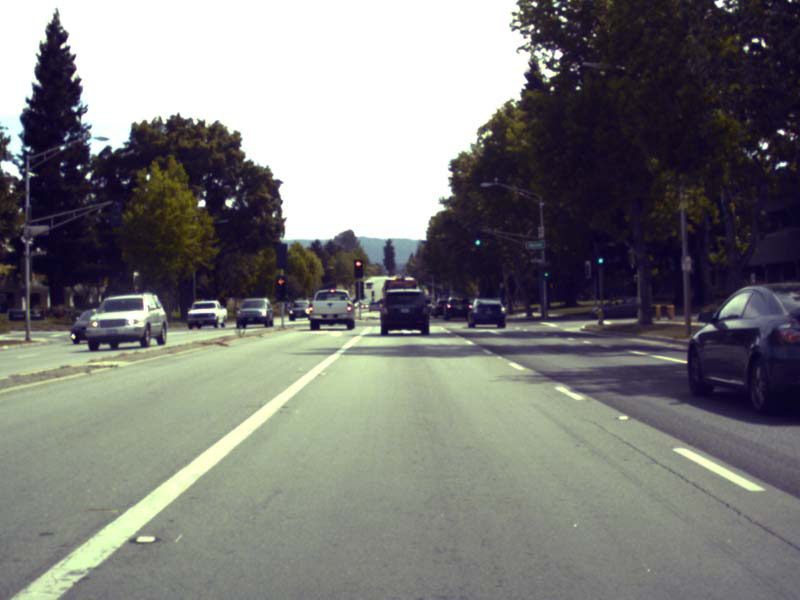Green: (596, 250, 603, 263), (475, 231, 480, 245), (543, 266, 548, 277)
Red: (276, 276, 285, 299), (354, 259, 362, 277)
